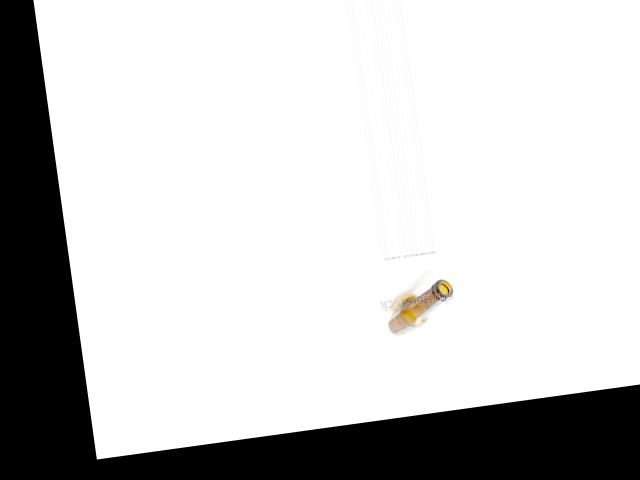beer: (382, 277, 458, 336)
